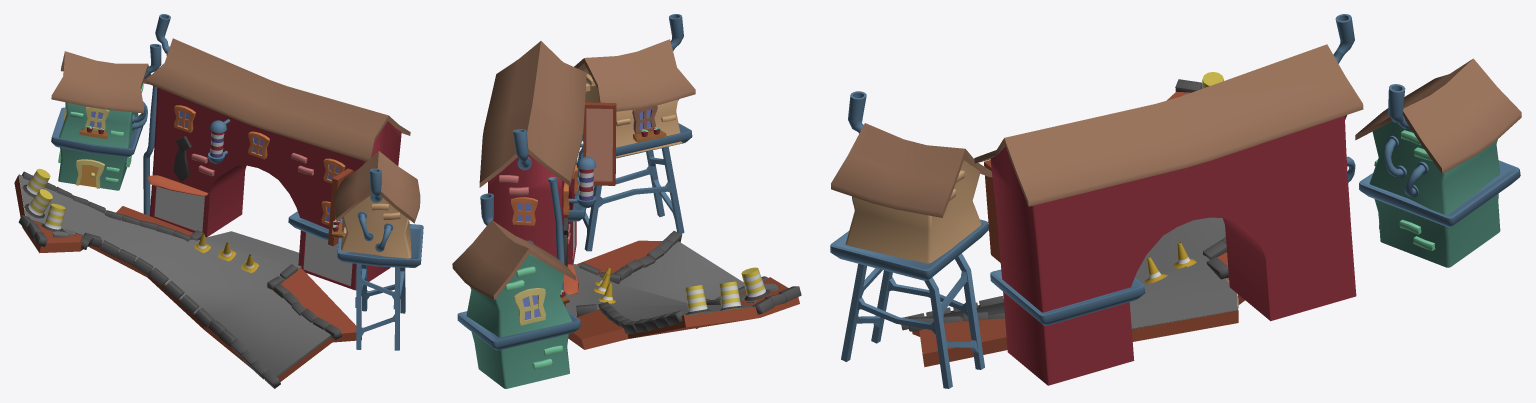
The model's file is GameJamBogeAssets.fbx.
The picture shows the model from 3 angles, left to right: view 1: azimuth 30°, elevation 25°; view 2: azimuth 150°, elevation 25°; view 3: azimuth 270°, elevation 25°; orthographic projection. The views are drawn at different scales.
Visible parts, largest first — view 1: Second chance.005, Cube.036, Cube.053, Second chance.001, Cube.013, Cube.099, Cube.100, Cube.012, Plane.010, Plane.014, Cube.015, Cube.102 (+16 smaller); view 2: Cube.053, Second chance.005, Cube.099, Second chance.001, Cube.036, Cube.013, Cube.012, Cube.015, Cube.069, Cube.014, Cube.100, Cube.102 (+16 smaller); view 3: Cube.036, Cube.053, Cube.013, Cube.099, Second chance.005, Cube.100, Cube.012, Cube.015, Second chance.001, Cube.102, Cube.014, Cube.083 (+8 smaller).
Boxes of the visible parts, <box> form: Second chance.005: <box>19,174,331,377</box>; Cube.036: <box>149,87,401,290</box>; Cube.053: <box>146,38,410,161</box>; Second chance.001: <box>14,175,361,381</box>; Cube.013: <box>51,51,150,113</box>; Cube.099: <box>334,151,420,223</box>; Cube.100: <box>341,196,411,258</box>; Cube.012: <box>59,102,138,148</box>; Plane.010: <box>154,186,204,231</box>; Plane.014: <box>303,232,352,285</box>; Cube.015: <box>58,147,126,190</box>; Cube.102: <box>337,218,423,267</box>; Cube.053: <box>479,41,586,187</box>; Second chance.005: <box>565,241,755,321</box>; Cube.099: <box>574,39,695,111</box>; Second chance.001: <box>568,240,799,349</box>; Cube.036: <box>488,154,577,306</box>; Cube.013: <box>452,220,576,299</box>; Cube.012: <box>466,254,572,337</box>; Cube.015: <box>471,332,569,388</box>; Cube.069: <box>583,102,616,185</box>; Cube.014: <box>457,311,580,350</box>; Cube.100: <box>583,68,682,157</box>; Cube.102: <box>582,123,692,158</box>; Cube.036: <box>990,116,1356,385</box>; Cube.053: <box>974,44,1363,206</box>; Cube.013: <box>1355,58,1521,173</box>; Cube.099: <box>831,123,992,217</box>; Second chance.005: <box>925,217,1237,329</box>; Cube.100: <box>845,160,981,263</box>; Cube.012: <box>1369,121,1500,215</box>; Cube.015: <box>1374,193,1500,267</box>; Second chance.001: <box>912,91,1245,367</box>; Cube.102: <box>830,219,988,280</box>; Cube.014: <box>1359,160,1520,227</box>; Cube.083: <box>990,269,1145,325</box>.
Size of the model in its own units: 2492 by 1848 by 3331.
